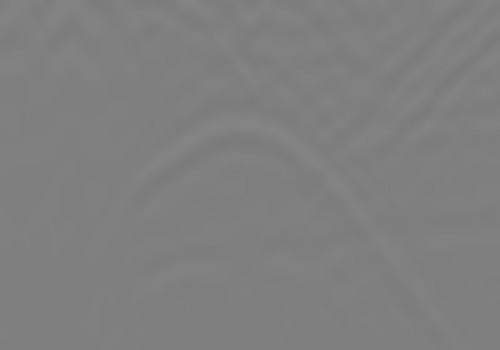hyperbola: (83, 112, 406, 293)
